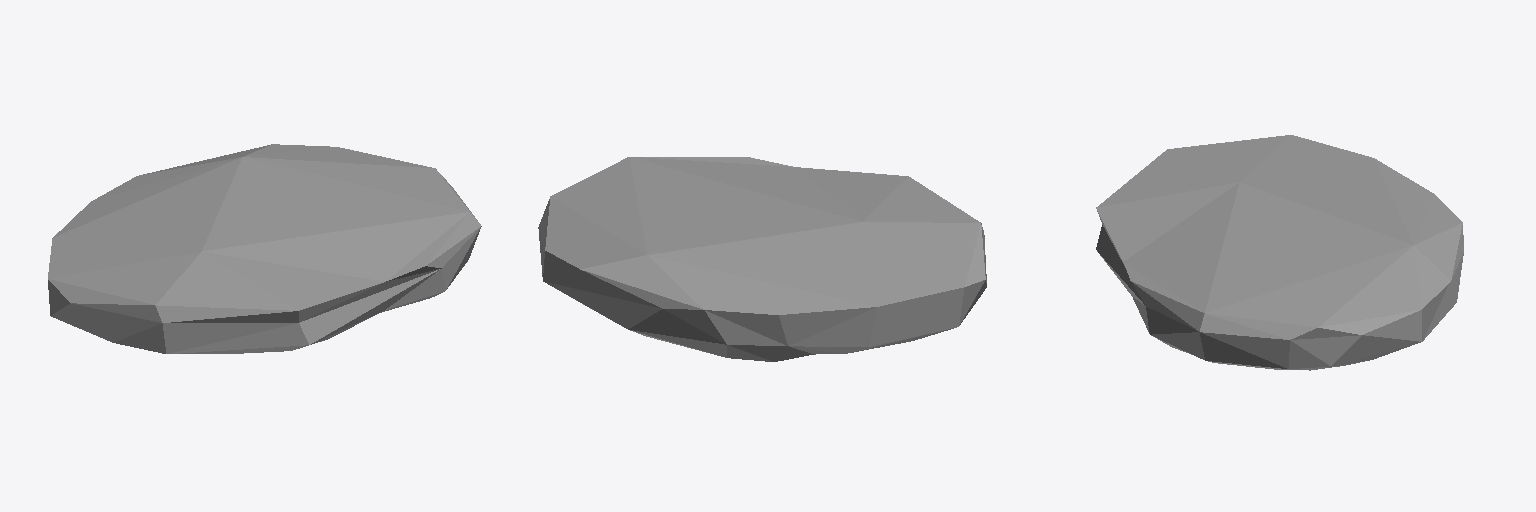
Rendered from Mesh_CavePack_Platform4_lod2.obj.
3 views of the same model, side by side, from view 1: azimuth 30°, elevation 25°; view 2: azimuth 150°, elevation 25°; view 3: azimuth 270°, elevation 25° (orthographic).
Visible parts, largest first — view 1: Cube_Cube.001; view 2: Cube_Cube.001; view 3: Cube_Cube.001.
Boxes of the visible parts, <box> form: Cube_Cube.001: <box>48,144,481,353</box>; Cube_Cube.001: <box>538,157,986,361</box>; Cube_Cube.001: <box>1096,135,1463,370</box>.
Bounding box in the file's own units: 11.55 × 2.04 × 9.09.